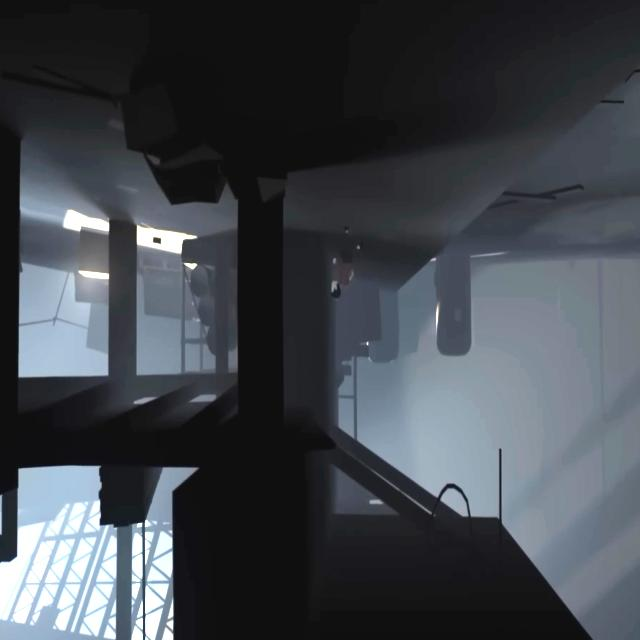boy: (330, 218, 363, 302)
